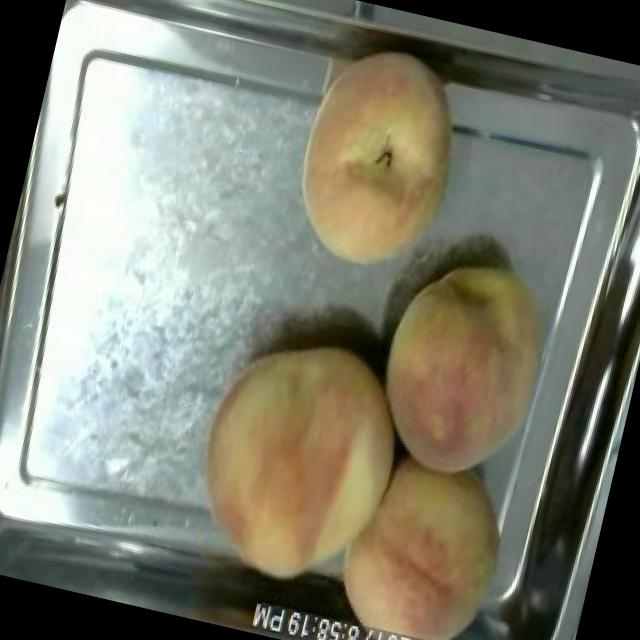Fruit: (166, 314, 438, 616), (350, 234, 580, 506), (268, 23, 486, 295), (310, 430, 535, 640)
